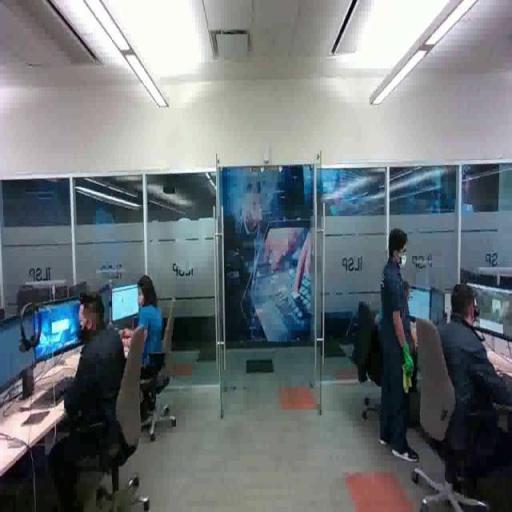person: (27, 299, 141, 512), (435, 278, 512, 494), (379, 227, 420, 468), (129, 275, 179, 439)
